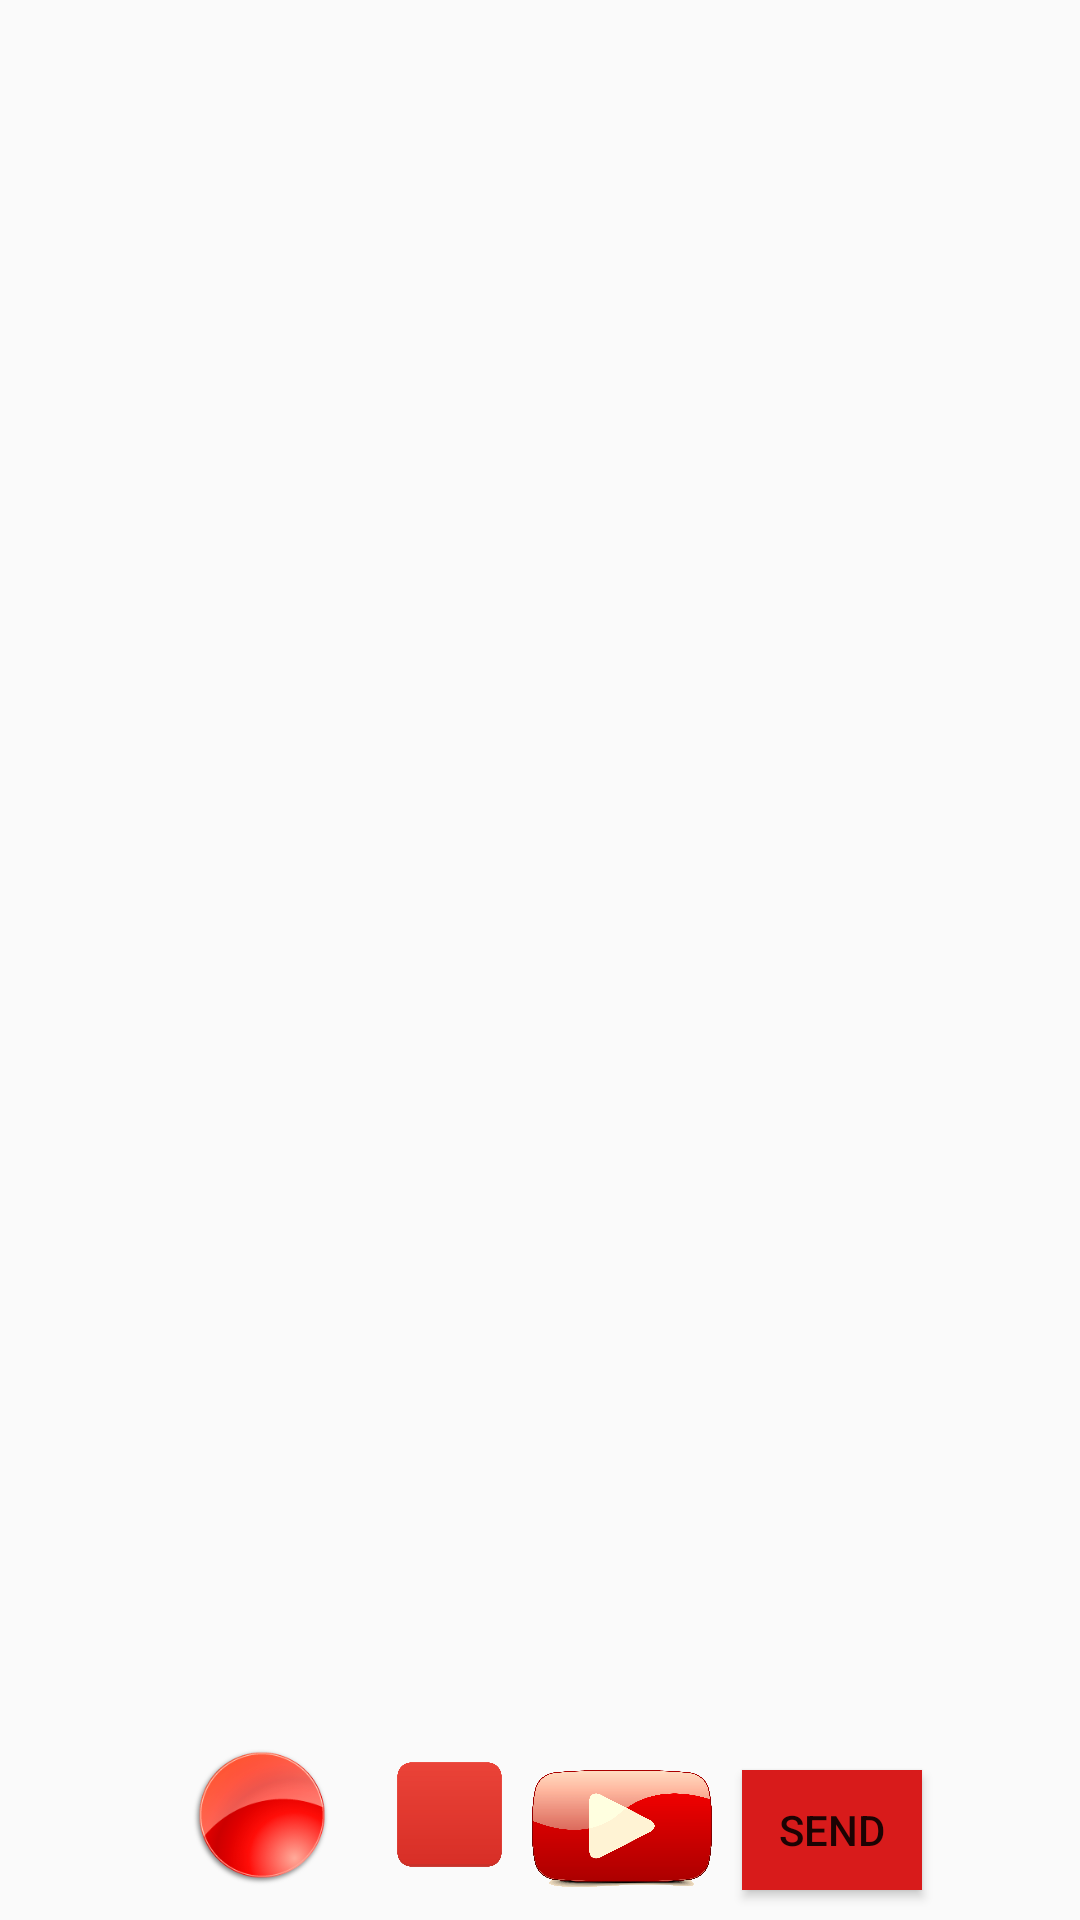

Named icons in this screenshot (1080×1920) and their centers, (x=x, y=y):
record: (x=261, y=1817)
stop: (x=449, y=1814)
